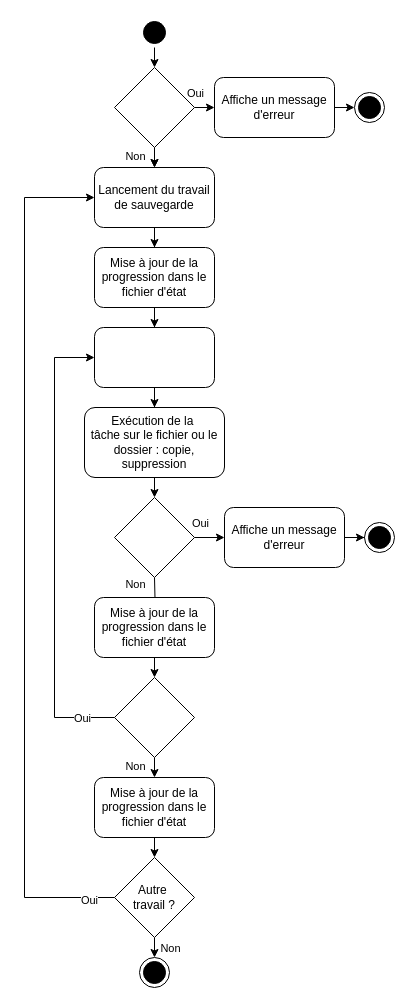
Some shapes in this 412 by 1005 pixel diagram are drawn without their labels. The shapes that lost their labels are listed below. From the top down, each one's centre as x and y in pixels, then its label:
the point at 154,107: Plus de 5 travaux ?
the point at 154,357: Lancement d'une tâche de sauvegarde
the point at 154,537: Erreur ?
the point at 154,717: Autre tâche ?
